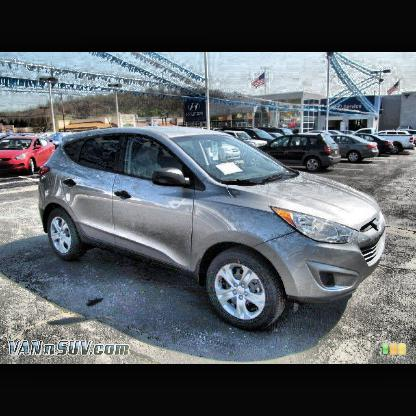Hyundai Tucson SUV 2012: (41, 127, 386, 331)
